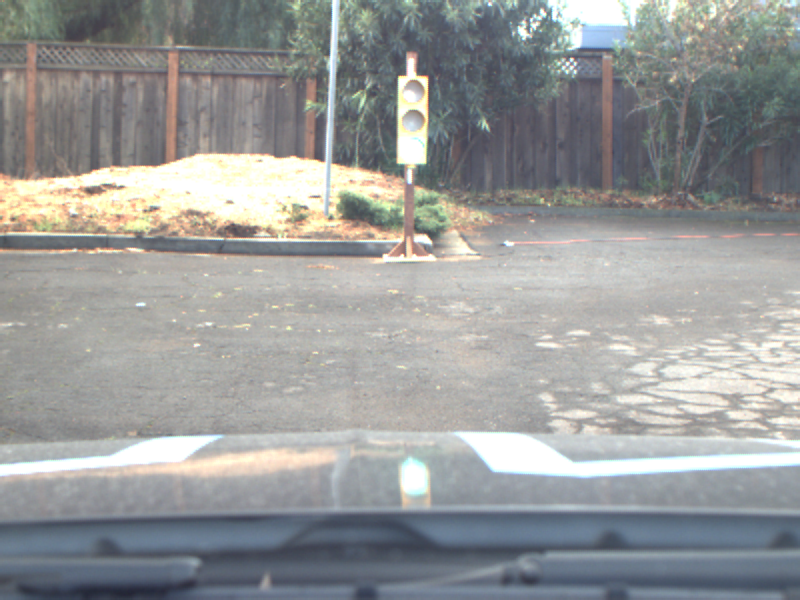Green: (397, 77, 426, 165)
